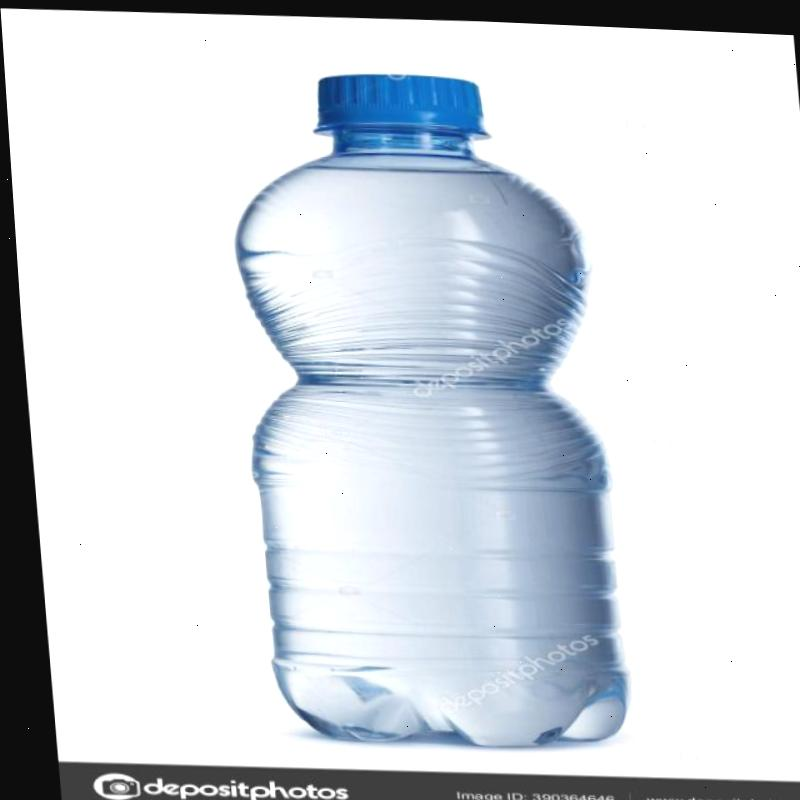botella: (208, 60, 622, 747)
